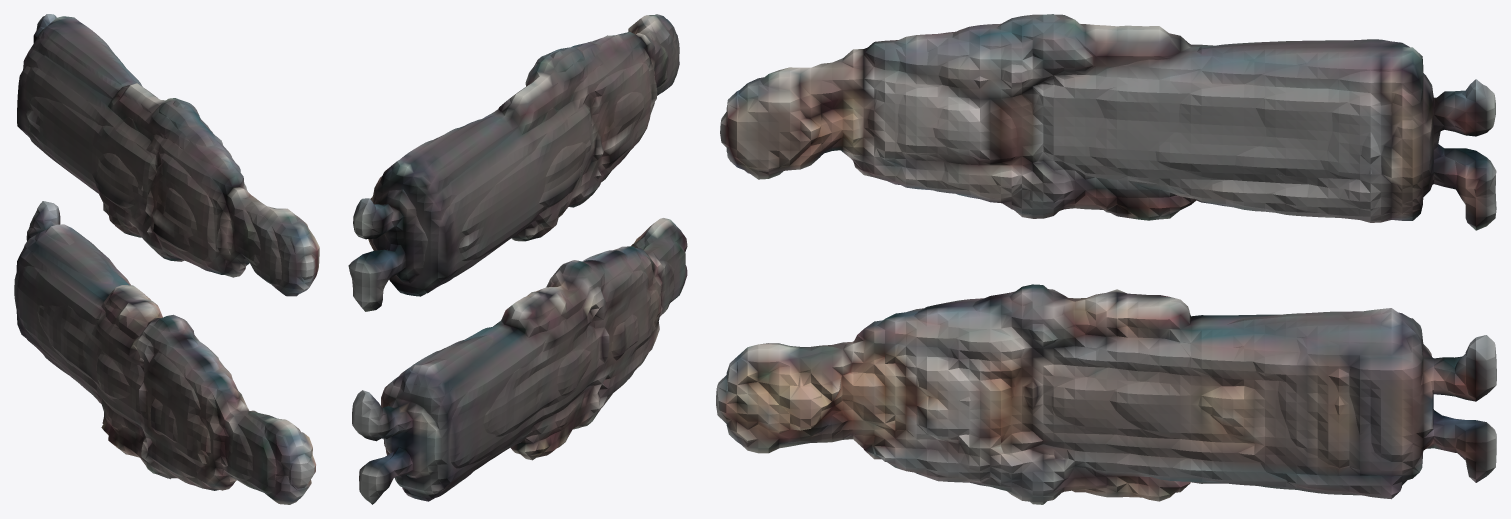
Rendered from ancient_merchant_f_0.glb.
The picture shows the model from 3 angles, left to right: view 1: azimuth 30°, elevation 25°; view 2: azimuth 150°, elevation 25°; view 3: azimuth 270°, elevation 25°; orthographic projection. The views are drawn at different scales.
Visible parts, largest first — view 1: world; view 2: world; view 3: world.
Boxes of the visible parts, box(x1,y1,x2,y2) form: world: box(14, 14, 319, 504); world: box(348, 14, 687, 504); world: box(716, 14, 1496, 504).
Bounding box in the file's own units: 0.2001 × 0.7158 × 1.01.
